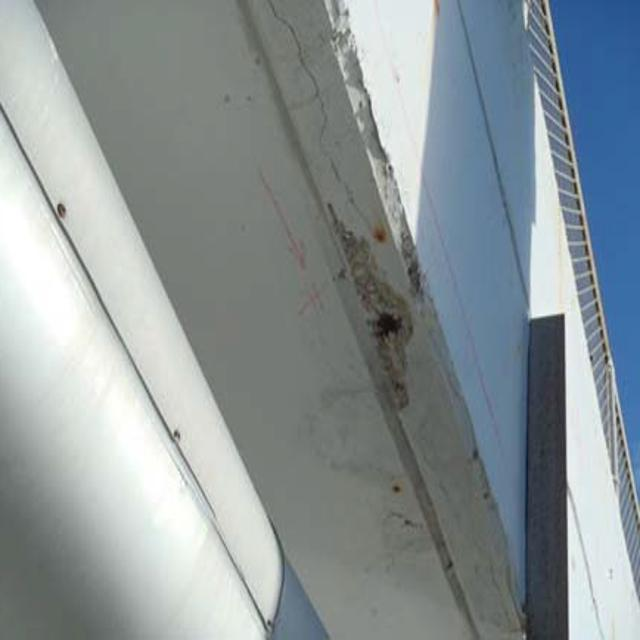spalling: (333, 226, 424, 424)
